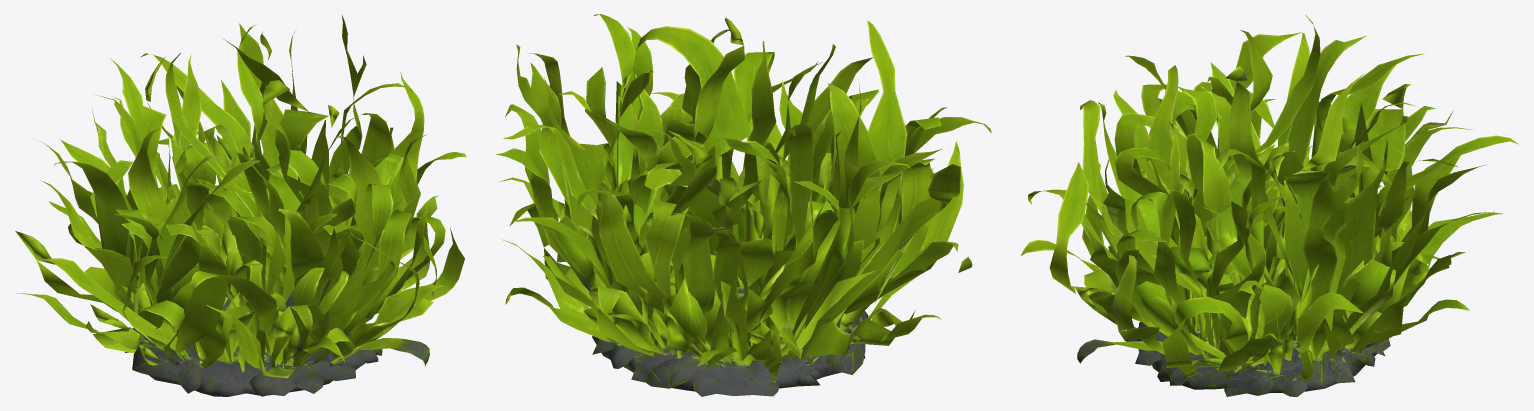
File: AquaticPlant.glb
3 views of the same model, side by side, from view 1: azimuth 30°, elevation 25°; view 2: azimuth 150°, elevation 25°; view 3: azimuth 270°, elevation 25° (orthographic). The views are drawn at different scales.
Bounding box in the file's own units: 0.958 × 0.6396 × 0.9536.
Materials: 1 (1 with a texture image).
